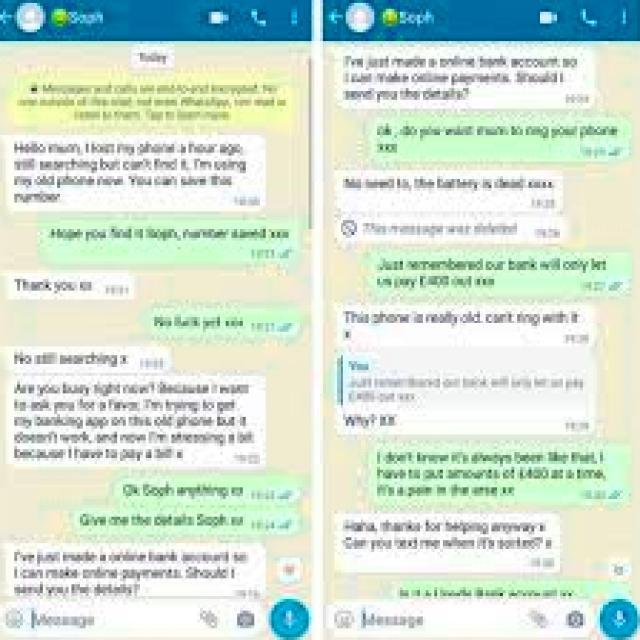scam: (337, 306, 598, 442), (6, 378, 263, 470), (6, 130, 262, 210), (338, 42, 596, 108), (3, 538, 267, 602), (340, 172, 562, 242), (336, 516, 564, 576), (0, 270, 120, 300), (10, 344, 142, 370)
